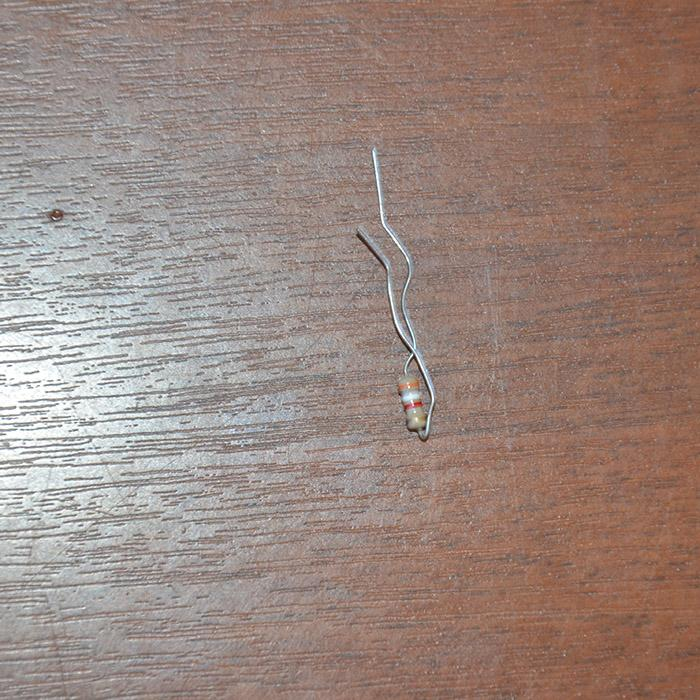resistor: (396, 372, 428, 431)
